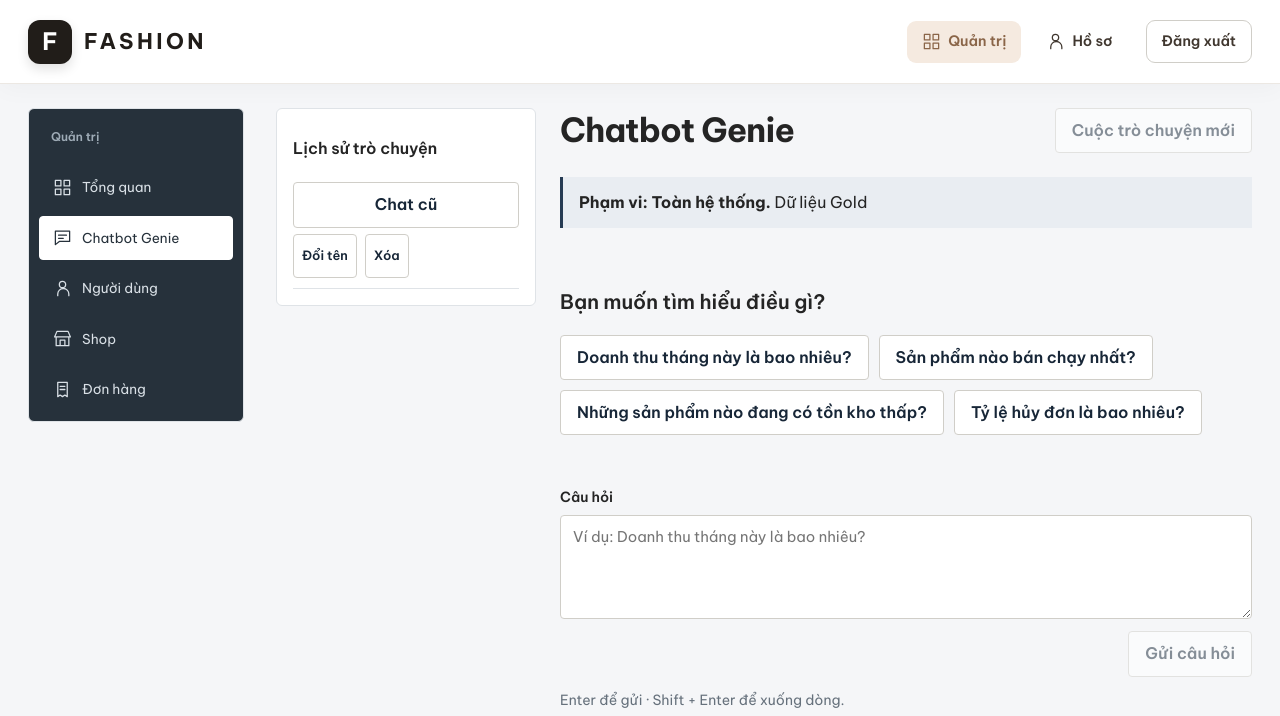
it: keeps archived chat readable when its old space cannot be resumed
Step 1. Click the button "Chat cũ" → (406, 205), box [293,182,519,228]
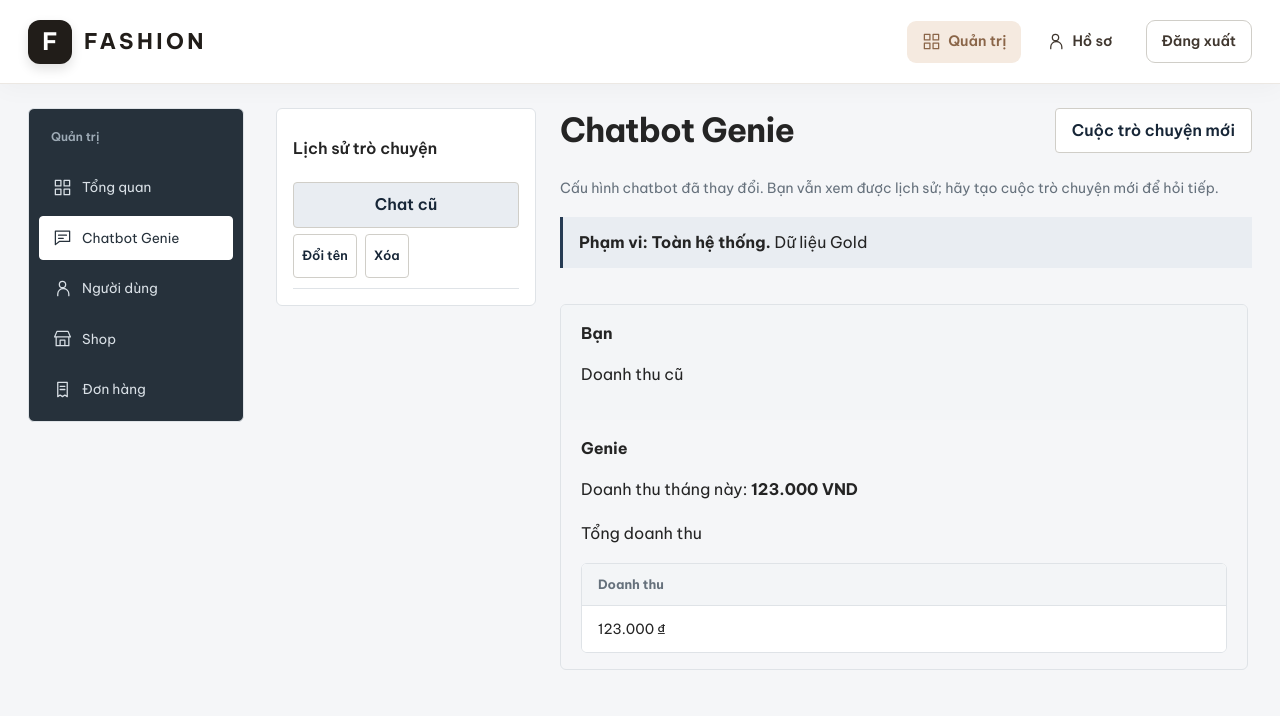
Check: the text "Doanh thu cũ" is shown, box [581,364,684,384]
Step 2. Click the button "Cuộc trò chuyện mới" → (1153, 131), box [1055,108,1252,153]
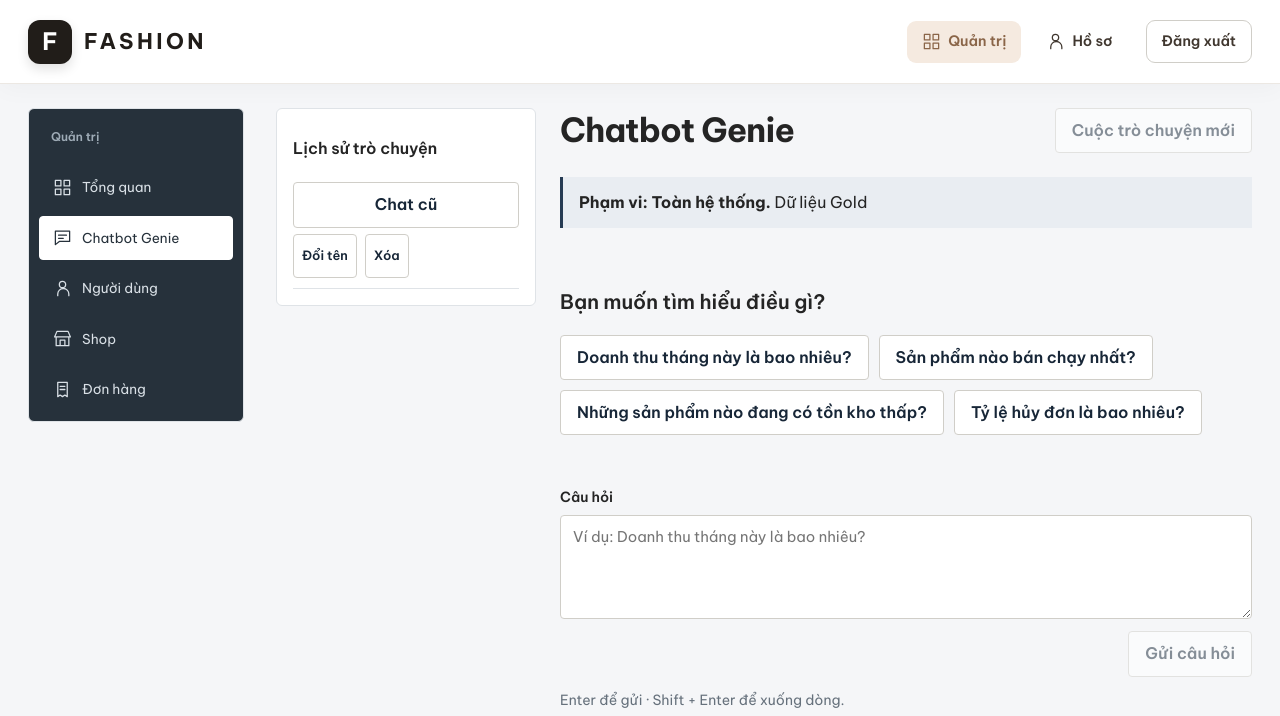
Check: the text box labelled "Câu hỏi" is enabled, box [560,515,1252,619]
